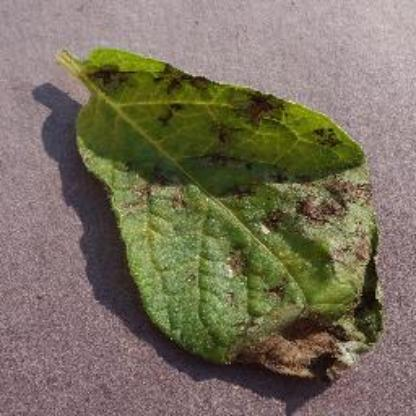Late-Blight: (38, 28, 396, 395)
